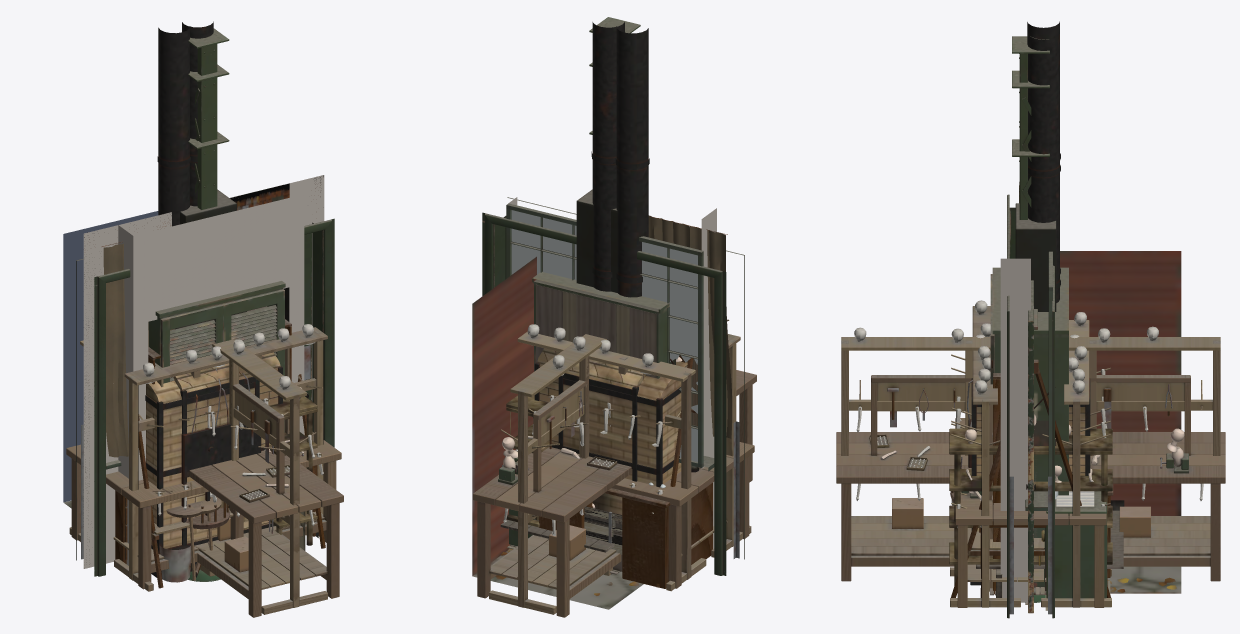
The model's file is workshop.glb.
3 renders of one model, left to right at view 1: azimuth 30°, elevation 25°; view 2: azimuth 150°, elevation 25°; view 3: azimuth 270°, elevation 25°, orthographic. The views are drawn at different scales.
Parts seen in each view (by area): view 1: Mod_fireplace_workshop, Isl_kiln, Solid_workbench, Door_frame_workshop, Isl_drying_rack, Isl_workbench_double, Solid_kiln, Solid_drying_rack, Win_industrial, Exit_workshop_p1, Door_closed_workshop, Win_industrial_curtain (+12 smaller); view 2: Isl_kiln, Solid_workbench, Exit_workshop_p0, Solid_kiln, Door_frame_workshop, Ward_body_workshop, Isl_drying_rack, Win_industrial_glass, Isl_office_desk, Solid_drying_rack, Mod_fireplace_workshop, Isl_workbench_double (+4 smaller); view 3: Solid_workbench, Exit_workshop_p0, Mod_fireplace_workshop, Solid_drying_rack, Isl_drying_rack, Solid_kiln, Isl_kiln, Ward_body_workshop, Isl_workbench_double, Isl_office_desk, Door_frame_workshop, Door_leaf_workshop (+7 smaller).
Boxes of the visible parts, x1,y1,x2,y2 form: Mod_fireplace_workshop: (84, 175, 323, 567); Isl_kiln: (145, 26, 317, 582); Solid_workbench: (189, 383, 343, 617); Door_frame_workshop: (76, 218, 334, 576); Isl_drying_rack: (69, 324, 327, 591); Isl_workbench_double: (66, 431, 341, 589); Solid_kiln: (173, 21, 282, 571); Solid_drying_rack: (207, 339, 327, 614); Win_industrial: (83, 175, 324, 568); Exit_workshop_p1: (63, 211, 158, 502); Door_closed_workshop: (83, 175, 324, 568); Win_industrial_curtain: (101, 241, 174, 457); Isl_kiln: (506, 26, 687, 527); Solid_workbench: (473, 370, 756, 617); Exit_workshop_p0: (472, 256, 692, 609); Solid_kiln: (534, 22, 645, 481); Door_frame_workshop: (482, 197, 744, 575); Ward_body_workshop: (532, 271, 669, 378); Isl_drying_rack: (517, 324, 751, 591); Win_industrial_glass: (511, 210, 697, 461); Isl_office_desk: (509, 449, 712, 588); Solid_drying_rack: (489, 319, 729, 614); Mod_fireplace_workshop: (576, 189, 716, 548); Isl_workbench_double: (612, 442, 754, 588); Solid_workbench: (836, 375, 1225, 581); Exit_workshop_p0: (1034, 251, 1181, 594); Mod_fireplace_workshop: (1000, 203, 1056, 602); Solid_drying_rack: (841, 326, 1220, 500); Isl_drying_rack: (950, 300, 1111, 607); Solid_kiln: (967, 33, 1090, 585); Isl_kiln: (949, 21, 1112, 585); Ward_body_workshop: (992, 267, 1068, 587); Isl_workbench_double: (953, 418, 1106, 607); Isl_office_desk: (950, 465, 1113, 598); Door_frame_workshop: (1007, 194, 1054, 618); Door_leaf_workshop: (1026, 280, 1035, 613).
Size of the model in its own units: 2.25 by 4.87 by 3.08.
35 materials, 31 textured.
